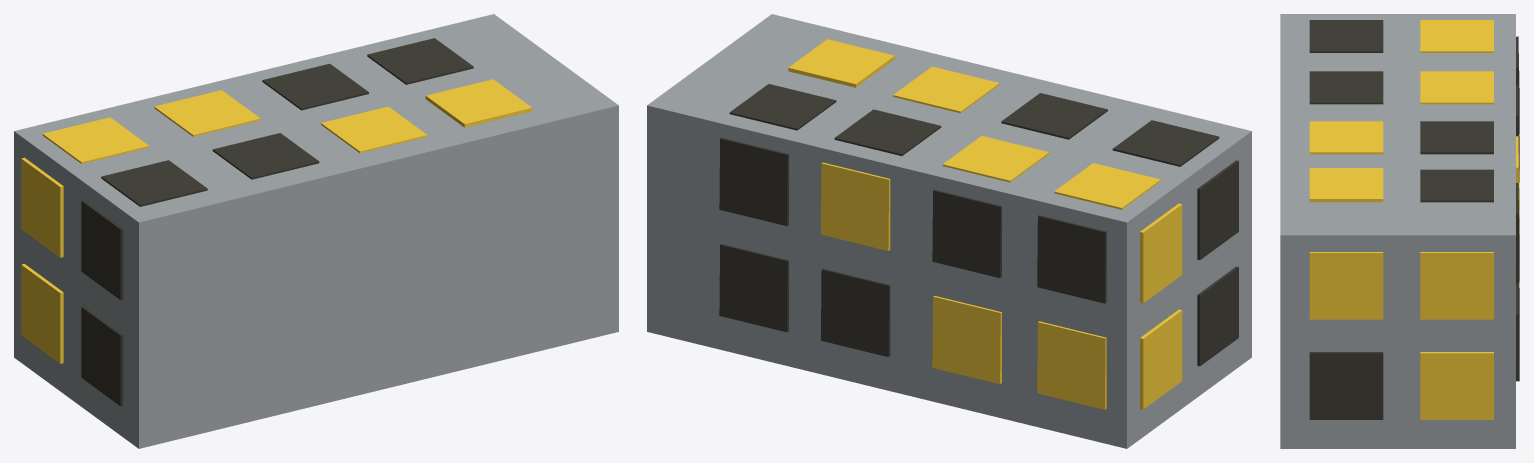
The model's file is Building2.obj.
The picture shows the model from 3 angles, left to right: view 1: azimuth 30°, elevation 25°; view 2: azimuth 150°, elevation 25°; view 3: azimuth 270°, elevation 25°; orthographic projection. The views are drawn at different scales.
Parts seen in each view (by area): view 1: obj_0, obj_30, obj_29, obj_31, obj_32, obj_9, obj_13, obj_10, obj_14, obj_16, obj_15, obj_11 (+1 smaller); view 2: obj_0, obj_17, obj_18, obj_24, obj_23, obj_21, obj_20, obj_22, obj_19, obj_29, obj_30, obj_31 (+9 smaller); view 3: obj_0, obj_25, obj_27, obj_7, obj_28, obj_9, obj_12, obj_13, obj_10, obj_11, obj_14, obj_15 (+3 smaller).
Part boxes in pixels (x1=…): obj_0: x1=14, y1=14, x2=618, y2=448; obj_30: x1=21, y1=264, x2=63, y2=363; obj_29: x1=21, y1=157, x2=63, y2=257; obj_31: x1=81, y1=306, x2=123, y2=406; obj_32: x1=81, y1=200, x2=123, y2=300; obj_9: x1=425, y1=79, x2=532, y2=127; obj_13: x1=212, y1=133, x2=319, y2=179; obj_10: x1=367, y1=38, x2=473, y2=84; obj_14: x1=154, y1=90, x2=260, y2=136; obj_16: x1=42, y1=117, x2=149, y2=163; obj_15: x1=101, y1=160, x2=207, y2=206; obj_11: x1=262, y1=63, x2=368, y2=110; obj_0: x1=647, y1=14, x2=1251, y2=448; obj_17: x1=821, y1=162, x2=890, y2=250; obj_18: x1=821, y1=268, x2=890, y2=356; obj_24: x1=1037, y1=215, x2=1106, y2=303; obj_23: x1=1037, y1=321, x2=1106, y2=409; obj_21: x1=932, y1=189, x2=1001, y2=277; obj_20: x1=719, y1=137, x2=788, y2=225; obj_22: x1=932, y1=295, x2=1001, y2=384; obj_19: x1=719, y1=244, x2=788, y2=332; obj_29: x1=1140, y1=203, x2=1182, y2=303; obj_30: x1=1140, y1=309, x2=1182, y2=409; obj_31: x1=1197, y1=266, x2=1238, y2=366; obj_0: x1=1280, y1=14, x2=1515, y2=448; obj_25: x1=1309, y1=352, x2=1383, y2=419; obj_27: x1=1309, y1=252, x2=1383, y2=319; obj_7: x1=1420, y1=352, x2=1493, y2=419; obj_28: x1=1420, y1=252, x2=1493, y2=319; obj_9: x1=1309, y1=168, x2=1383, y2=202; obj_12: x1=1309, y1=121, x2=1383, y2=154; obj_13: x1=1309, y1=71, x2=1383, y2=104; obj_10: x1=1420, y1=169, x2=1493, y2=202; obj_11: x1=1420, y1=121, x2=1493, y2=154; obj_14: x1=1420, y1=71, x2=1493, y2=104; obj_15: x1=1309, y1=20, x2=1383, y2=52.
Bounding box in the file's own units: 144 × 66.01 × 65.
